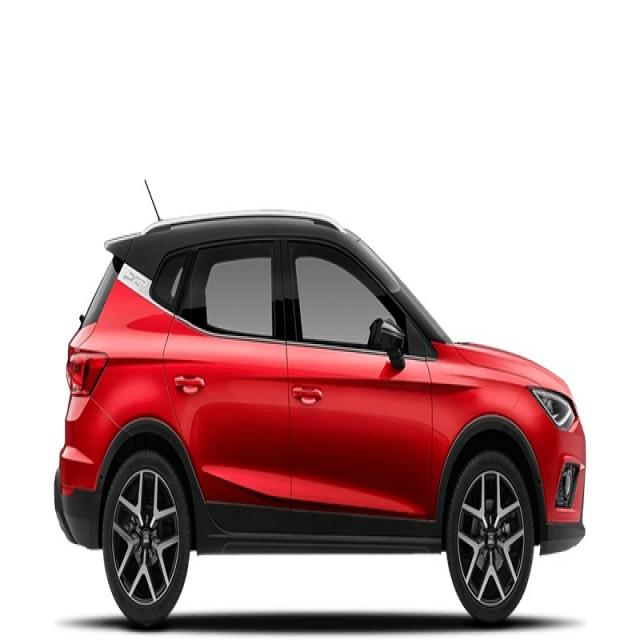yolov7-seg-car: (54, 178, 586, 629)
